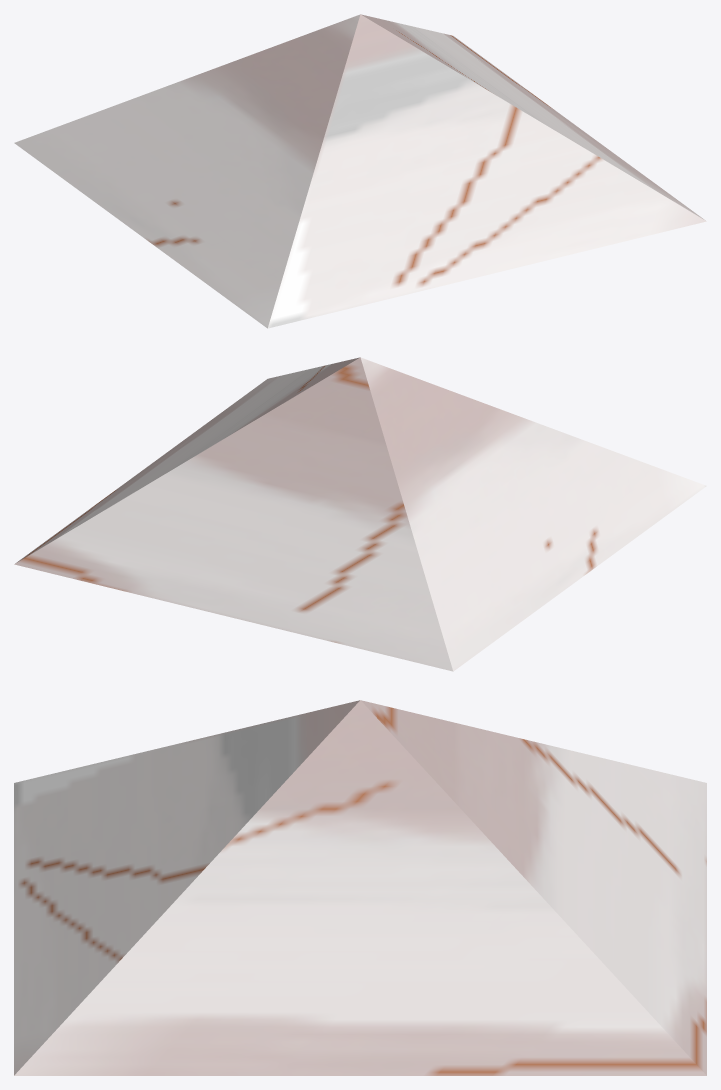
Rendered from rusty_roof_l.glb.
3 views of the same model, one above another, from view 1: azimuth 30°, elevation 25°; view 2: azimuth 150°, elevation 25°; view 3: azimuth 270°, elevation 25° (orthographic). The views are drawn at different scales.
Visible parts, largest first — view 1: Cube.001; view 2: Cube.001; view 3: Cube.001.
Part boxes in pixels (x1,y1,x2,y2): Cube.001: (14, 14, 706, 328); Cube.001: (14, 357, 706, 671); Cube.001: (14, 700, 706, 1075).
Bounding box in the file's own units: 6.41 × 2.34 × 6.41.
Materials: 1 (1 with a texture image).
